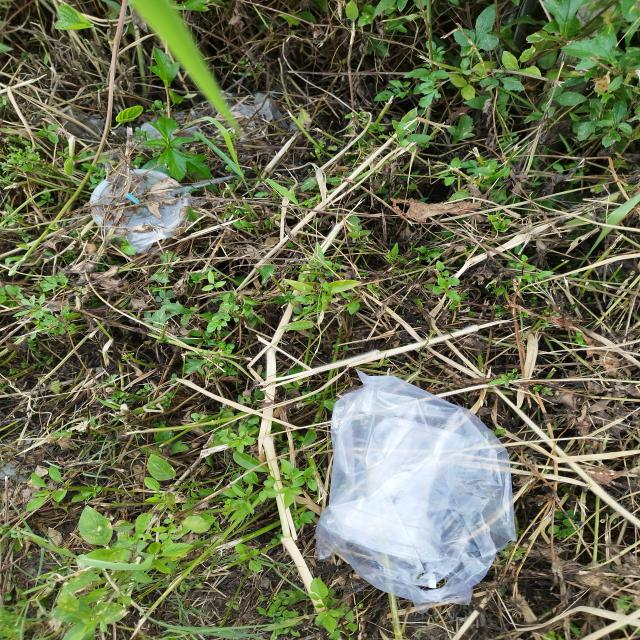lid: (89, 169, 190, 242)
trash bag: (329, 373, 513, 601)
